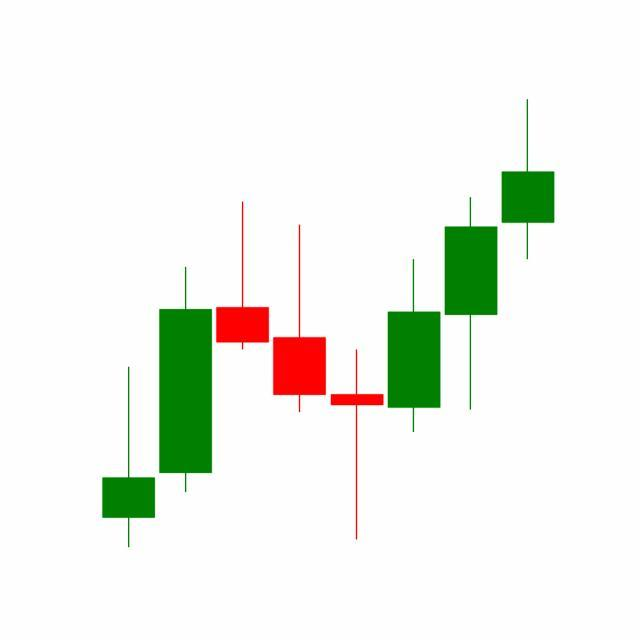Three Outside Up-Down: (328, 193, 500, 544)
